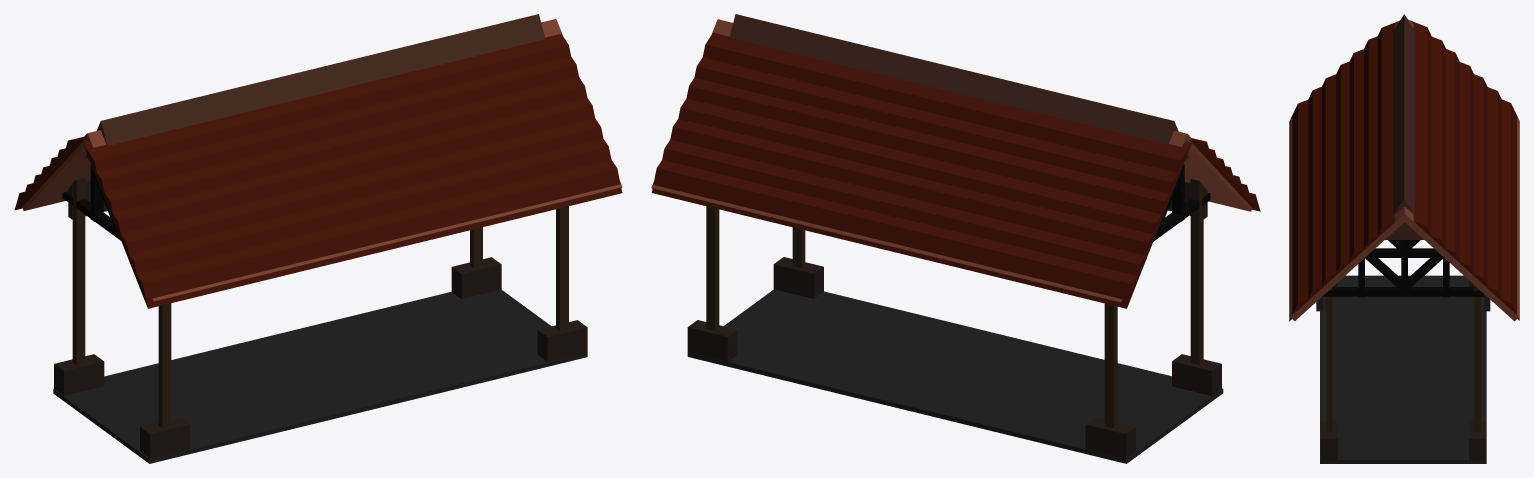
File: walkway1.fbx
3 views of the same model, side by side, from view 1: azimuth 30°, elevation 25°; view 2: azimuth 150°, elevation 25°; view 3: azimuth 270°, elevation 25° (orthographic). The views are drawn at different scales.
Parts seen in each view (by area): view 1: Cube.017, Cube, Cube.009, Cube.004, Cube.005, Cube.010, Cube.001; view 2: Cube.017, Cube, Cube.009, Cube.004, Cube.005, Cube.010, Cube.001; view 3: Cube.017, Cube, Cube.009, Cube.001, Cube.010, Cube.005, Cube.004.
Boxes of the visible parts, x1,y1,x2,y2 form: Cube.017: (14,34,622,308); Cube: (53,289,587,463); Cube.009: (85,14,545,160); Cube.004: (54,257,587,458); Cube.005: (72,177,568,427); Cube.010: (22,19,622,301); Cube.001: (62,164,120,240); Cube.017: (651,32,1260,308); Cube: (687,289,1223,463); Cube.009: (729,14,1189,160); Cube.004: (687,257,1221,458); Cube.005: (706,179,1203,427); Cube.010: (651,19,1252,302); Cube.001: (1153,164,1210,241); Cube.017: (1289,20,1519,321); Cube: (1320,275,1486,463); Cube.009: (1385,14,1423,239); Cube.001: (1323,240,1483,297); Cube.010: (1290,18,1518,321); Cube.005: (1326,285,1480,431); Cube.004: (1320,280,1486,461).
Bounding box in the file's own units: 3771 × 2331 × 1835.
